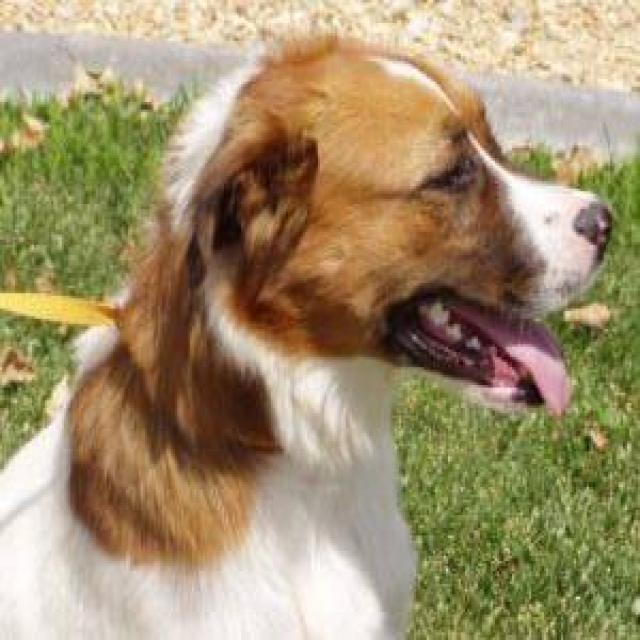dog: (0, 25, 614, 637)
